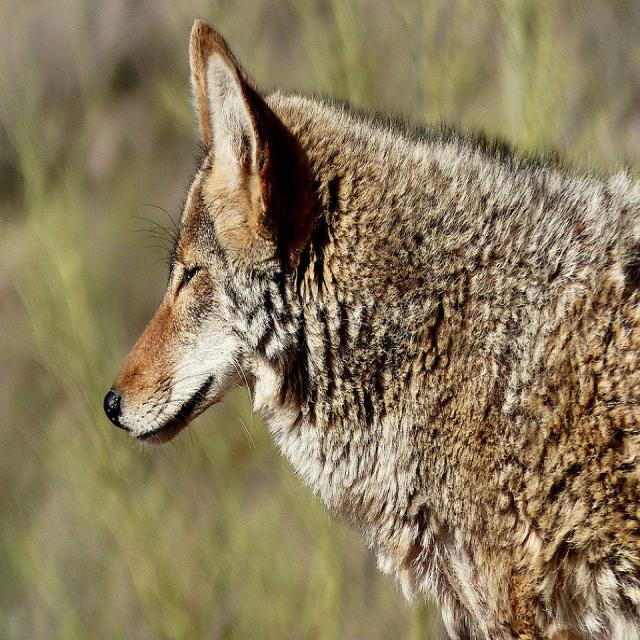coyote: (103, 19, 639, 639)
